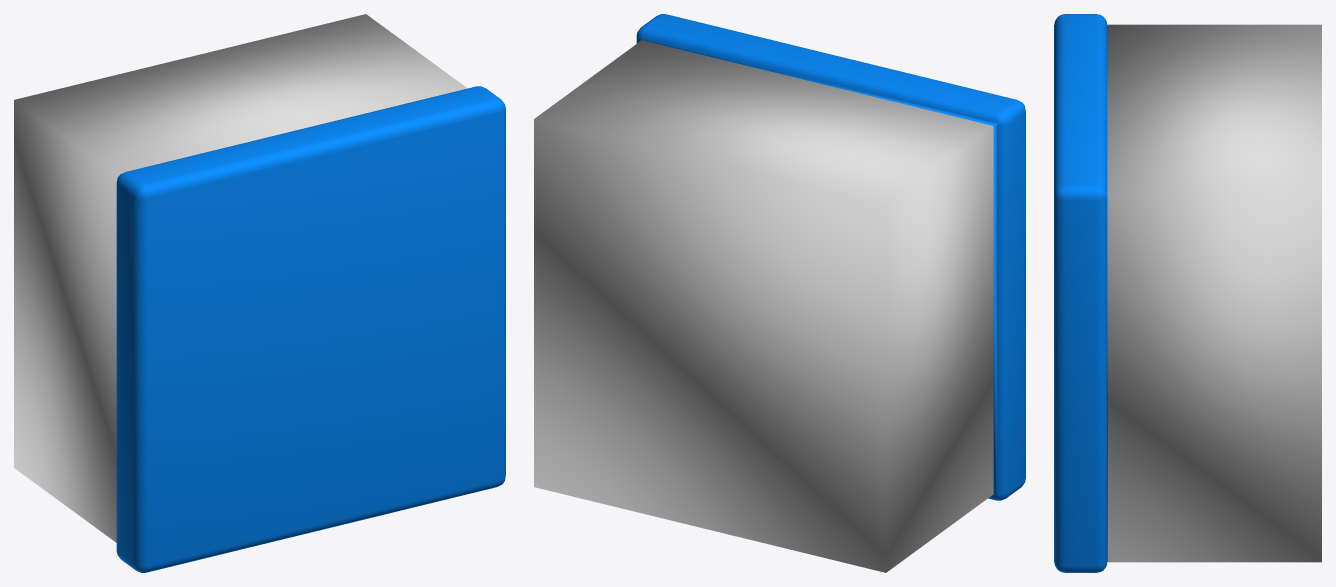
The model's file is Base_1_Mid.glb.
The picture shows the model from 3 angles, left to right: view 1: azimuth 30°, elevation 25°; view 2: azimuth 150°, elevation 25°; view 3: azimuth 270°, elevation 25°; orthographic projection.
Visible parts, largest first — view 1: Base 1 Mid; view 2: Base 1 Mid; view 3: Base 1 Mid.
Boxes of the visible parts, <box> form: Base 1 Mid: <box>14,14,505,572</box>; Base 1 Mid: <box>534,14,1025,572</box>; Base 1 Mid: <box>1054,14,1321,572</box>.
Bounding box in the file's own units: 7.98 × 7.98 × 5.01.
